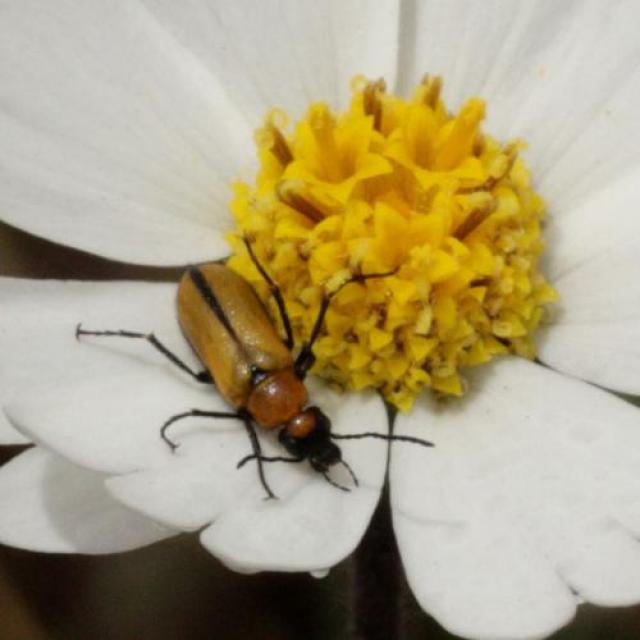BlisterBeetle-Adult-: (69, 195, 450, 512)
